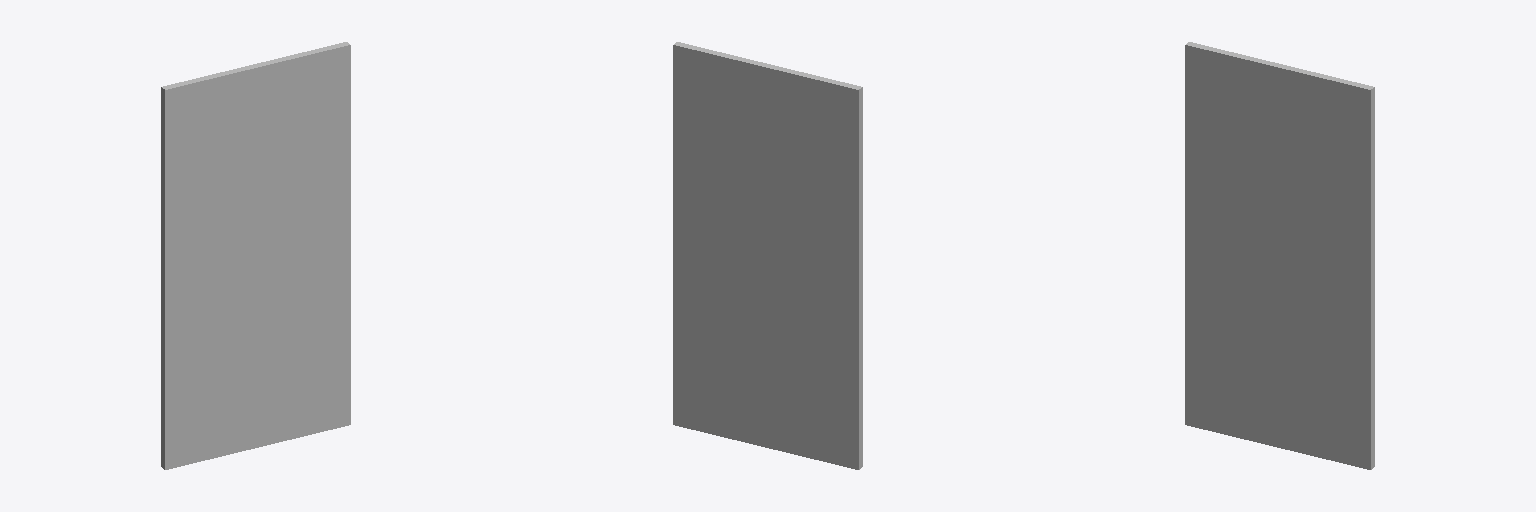
File: office_divider.obj
3 renders of one model, left to right at view 1: azimuth 30°, elevation 25°; view 2: azimuth 150°, elevation 25°; view 3: azimuth 330°, elevation 25°, orthographic.
Visible parts, largest first — view 1: Cube.011_Cube.013; view 2: Cube.011_Cube.013; view 3: Cube.011_Cube.013.
Boxes of the visible parts, x1=… form: Cube.011_Cube.013: x1=161, y1=42, x2=350, y2=469; Cube.011_Cube.013: x1=673, y1=42, x2=862, y2=469; Cube.011_Cube.013: x1=1185, y1=42, x2=1374, y2=469.
Size of the model in its own units: 1.02 by 2 by 0.04.